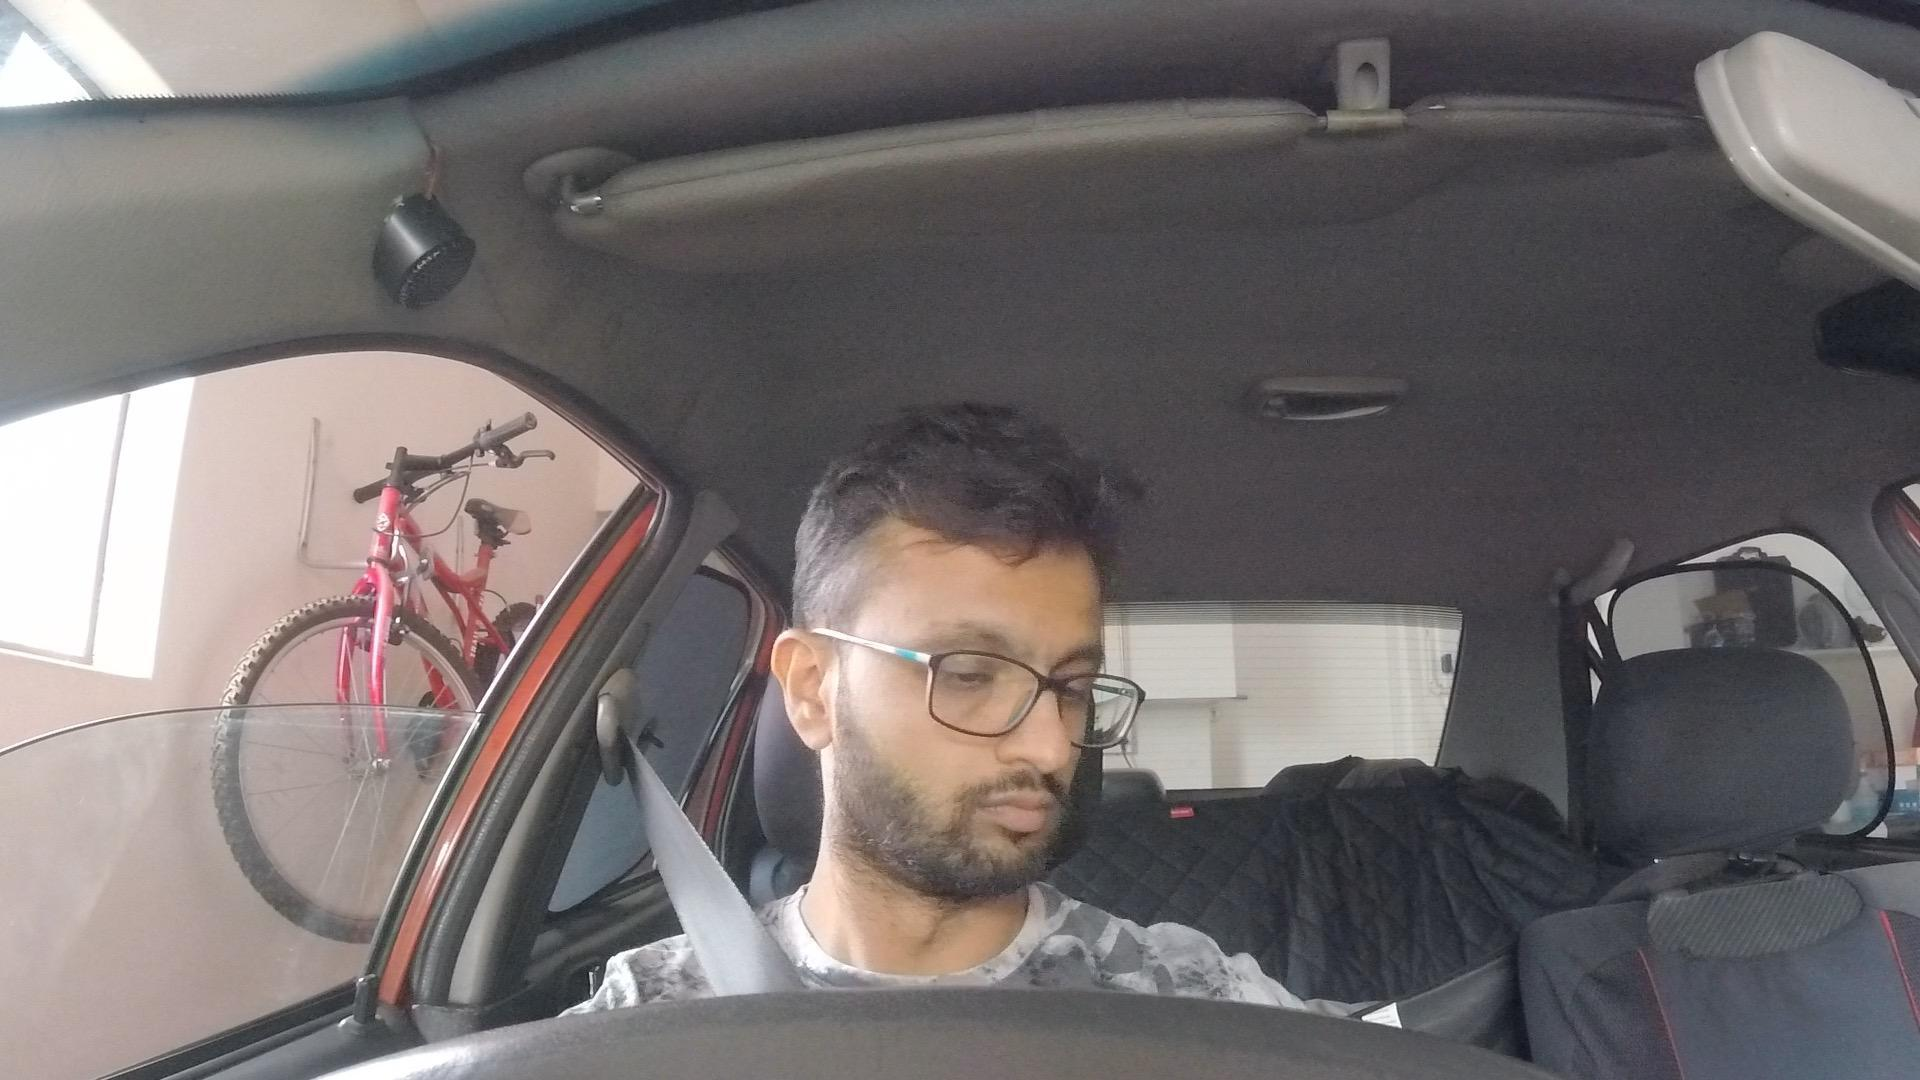SafeDriving: (771, 402, 1143, 907)
